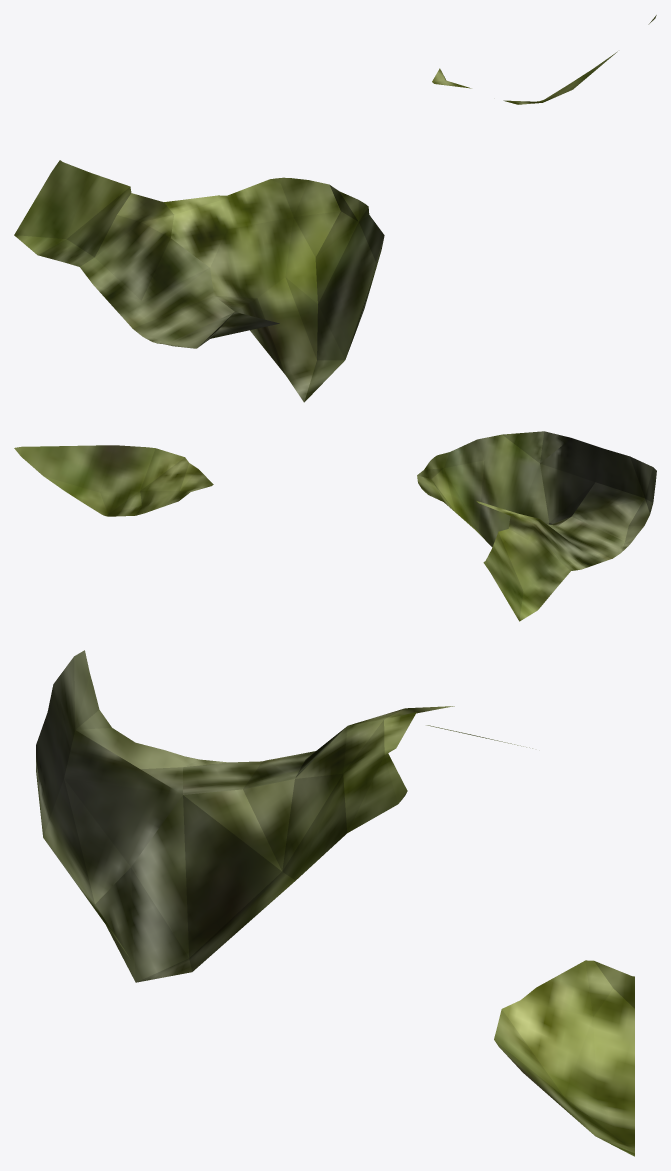
The picture shows the model from 3 angles, top to bottom: view 1: azimuth 30°, elevation 25°; view 2: azimuth 150°, elevation 25°; view 3: azimuth 270°, elevation 25°; orthographic projection. The views are drawn at different scales.
Size of the model in its own units: 1.7 by 0.3734 by 0.8743.
1 material, 1 textured.
